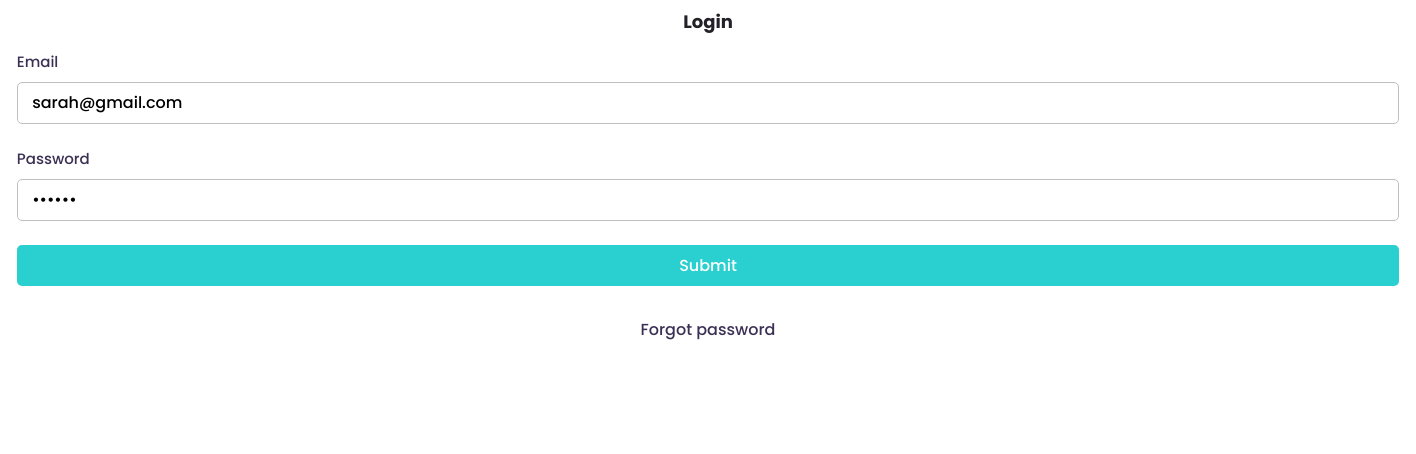
Test: handles server error
The image size is (1416, 454).
Click the button "Submit" at (708, 266), box [17,245,1399,286]
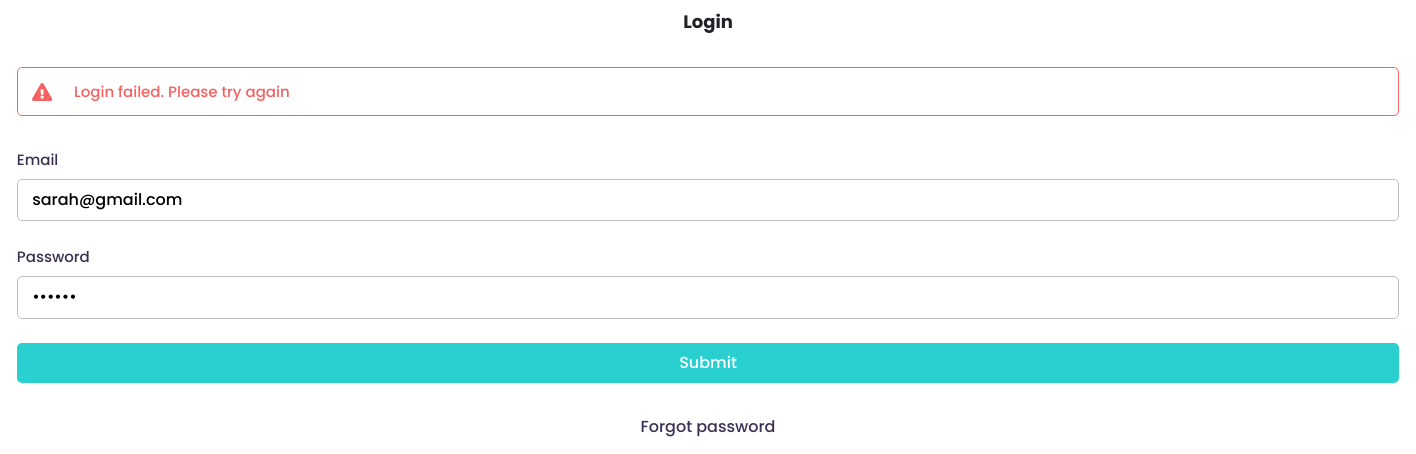
Expected: the element with test id "errors" reads "Login failed. Please try again", [74,81,290,102]
